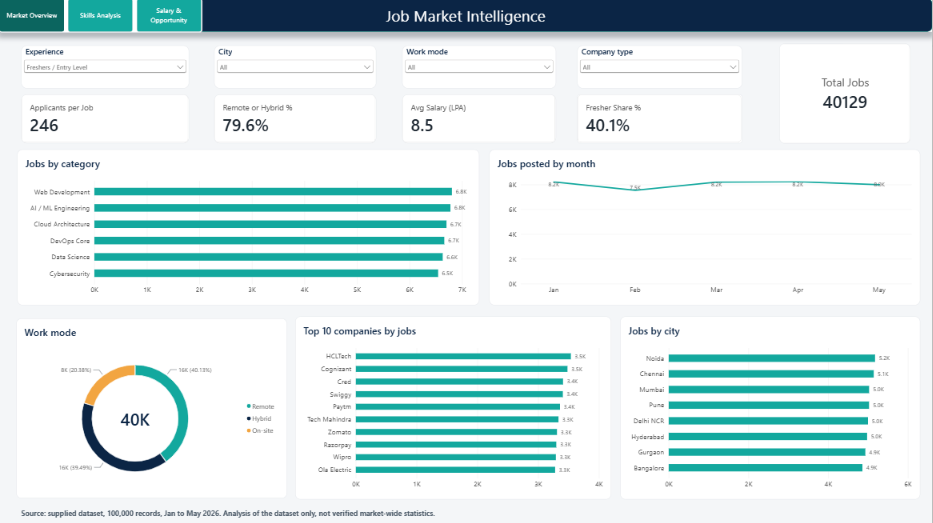

The page's visual inventory and layout, read from the dashboard file:
{"tool":"powerbi","page":{"name":"Market Overview","canvas":[1920,1080],"ordinal":0},"visuals":[{"type":"shape","box":[0,0,1920.4,68.6],"z":0},{"type":"slicer","fields":{"Values":["jobs.experience_level"]},"box":[45.3,96.7,345.8,88.5],"z":1000},{"type":"slicer","fields":{"Values":["jobs.location_city"]},"box":[442.5,96.7,333.4,88.5],"z":2000},{"type":"slicer","fields":{"Values":["jobs.work_mode"]},"box":[829.5,96.7,317,88.5],"z":3000},{"type":"slicer","fields":{"Values":["jobs.company_type"]},"box":[1189.7,96.7,339.6,88.5],"z":4000},{"type":"cardVisual","fields":{"Data":["all_measure.Total Jobs"]},"box":[1605,93.3,270,206.7],"z":5000},{"type":"cardVisual","fields":{"Data":["all_measure.Remote or Hybrid %"]},"box":[442.5,197.6,333.4,100.9],"z":6000},{"type":"cardVisual","fields":{"Data":["all_measure.Applicants per Job"]},"box":[45.3,197.6,345.8,100.9],"z":7000},{"type":"cardVisual","fields":{"Data":["all_measure.Average Salary Mid"]},"box":[829.5,197.6,317,100.9],"z":8000},{"type":"clusteredBarChart","title":"Jobs by category","fields":{"Category":["jobs.job_category"],"Y":["all_measure.Total Jobs"]},"box":[37,310.8,950.9,321.1],"z":9000},{"type":"lineChart","title":"Jobs posted by month","fields":{"Category":["Calendar.Month"],"Y":["all_measure.Total Jobs"]},"box":[1008.6,310.8,887.1,321.1],"z":10000},{"type":"clusteredBarChart","title":"Jobs by city","fields":{"Category":["jobs.location_city"],"Y":["all_measure.Total Jobs"]},"box":[1278.2,654.5,617.5,376.7],"z":11000},{"type":"donutChart","title":"Work mode","fields":{"Category":["jobs.work_mode"],"Y":["all_measure.Total Jobs"]},"box":[35,658.7,557.8,370.5],"z":12000},{"type":"clusteredBarChart","title":"Top 10 companies by jobs","fields":{"Category":["jobs.company_name"],"Y":["all_measure.Total Jobs"]},"box":[609.3,654.5,650.4,376.7],"z":13000},{"type":"cardVisual","fields":{"Data":["all_measure.Fresher Share %"]},"box":[1189.7,197.6,339.6,100.9],"z":14000},{"type":"textbox","box":[45,1050,870,30],"z":15000},{"type":"pageNavigator","box":[0,0,418,70],"z":16000}]}

Visuals, with their boxes in screenshot pixels (x1, y1, x2, y2), scaled from the page's 1920x1080 canvas onto the 933x523 screenshot:
shape: 0/0/932/33
slicer - jobs.experience_level: 22/47/190/90
slicer - jobs.location_city: 215/47/377/90
slicer - jobs.work_mode: 403/47/557/90
slicer - jobs.company_type: 578/47/743/90
cardVisual - all_measure.Total Jobs: 780/45/911/145
cardVisual - all_measure.Remote or Hybrid %: 215/96/377/145
cardVisual - all_measure.Applicants per Job: 22/96/190/145
cardVisual - all_measure.Average Salary Mid: 403/96/557/145
"Jobs by category" clusteredBarChart: 18/151/480/306
"Jobs posted by month" lineChart: 490/151/921/306
"Jobs by city" clusteredBarChart: 621/317/921/499
"Work mode" donutChart: 17/319/288/498
"Top 10 companies by jobs" clusteredBarChart: 296/317/612/499
cardVisual - all_measure.Fresher Share %: 578/96/743/145
textbox: 22/508/445/522
pageNavigator: 0/0/203/34
